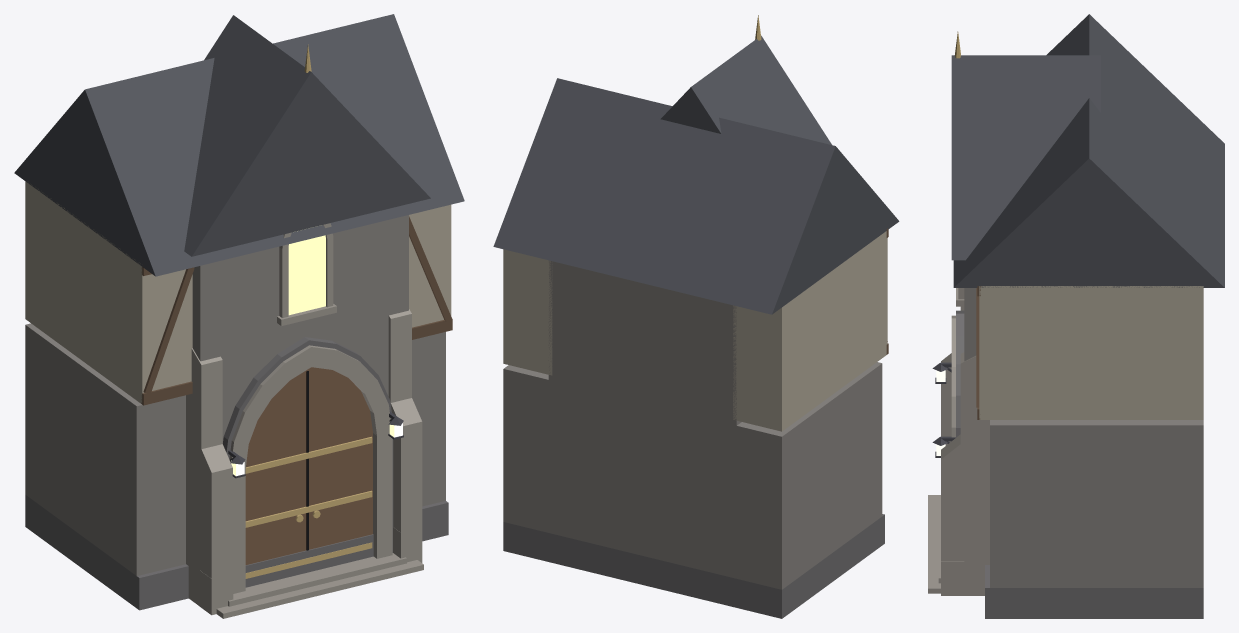
Rendered from range_portal.glb.
The picture shows the model from 3 angles, left to right: view 1: azimuth 30°, elevation 25°; view 2: azimuth 150°, elevation 25°; view 3: azimuth 270°, elevation 25°; orthographic projection. The views are drawn at different scales.
Parts seen in each view (by area): view 1: Upper, Plinth; view 2: Upper, Plinth; view 3: Upper, Plinth.
Boxes of the visible parts, x1,y1,x2,y2 form: Upper: (14,14,464,606); Plinth: (25,495,448,618); Upper: (493,15,899,589); Plinth: (503,514,884,618); Upper: (932,14,1224,595); Plinth: (928,495,1203,618).
Size of the model in its own units: 8 by 13.35 by 6.95.
